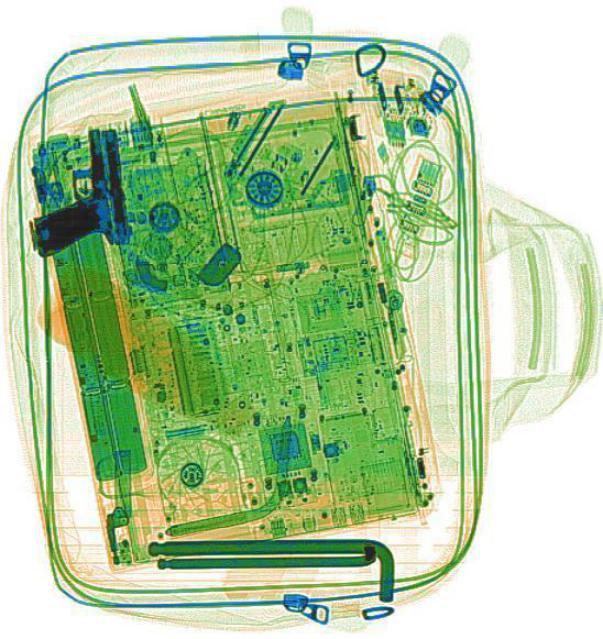Gun: (16, 123, 131, 257)
